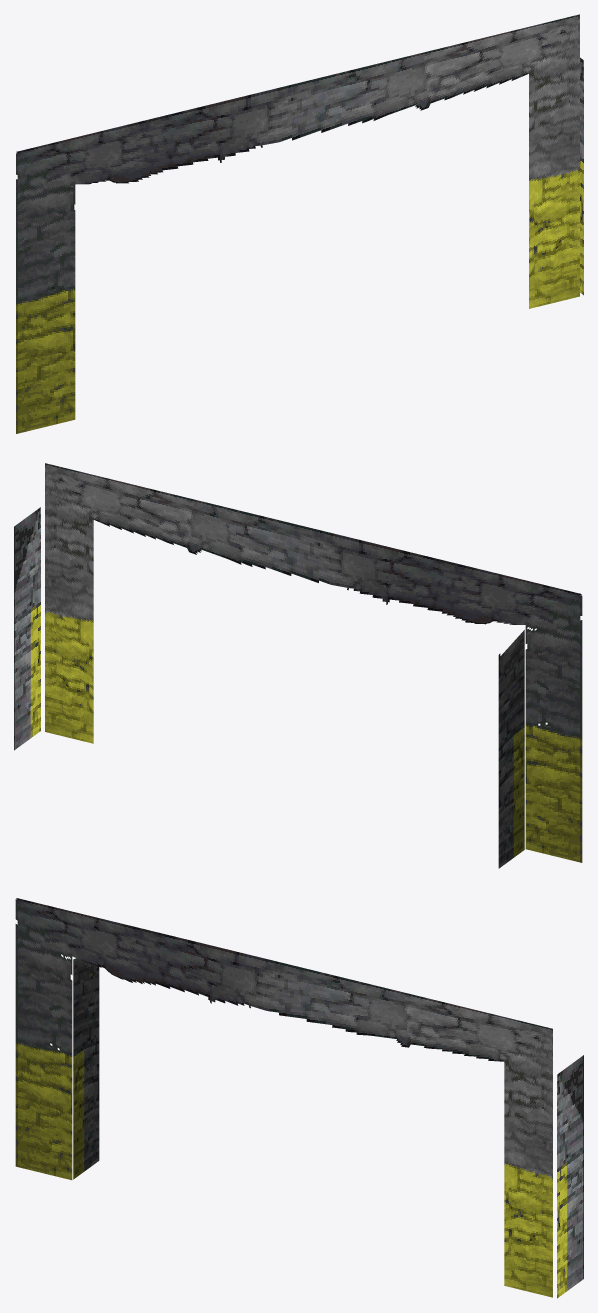
3 renders of one model, top to bottom at view 1: azimuth 30°, elevation 25°; view 2: azimuth 150°, elevation 25°; view 3: azimuth 330°, elevation 25°, orthographic. The views are drawn at different scales.
Parts seen in each view (by area): view 1: obj-al3-32; view 2: obj-al3-32; view 3: obj-al3-32.
Boxes of the visible parts, x1=… form: obj-al3-32: x1=16, y1=14, x2=583, y2=433; obj-al3-32: x1=14, y1=463, x2=582, y2=868; obj-al3-32: x1=15, y1=898, x2=583, y2=1298.
Bounding box in the file's own units: 2.18 × 1.03 × 0.1875.
6 materials, 6 textured.
